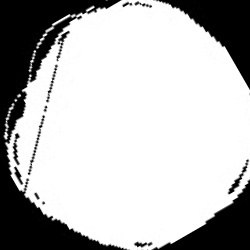spot: (4, 3, 248, 248)
